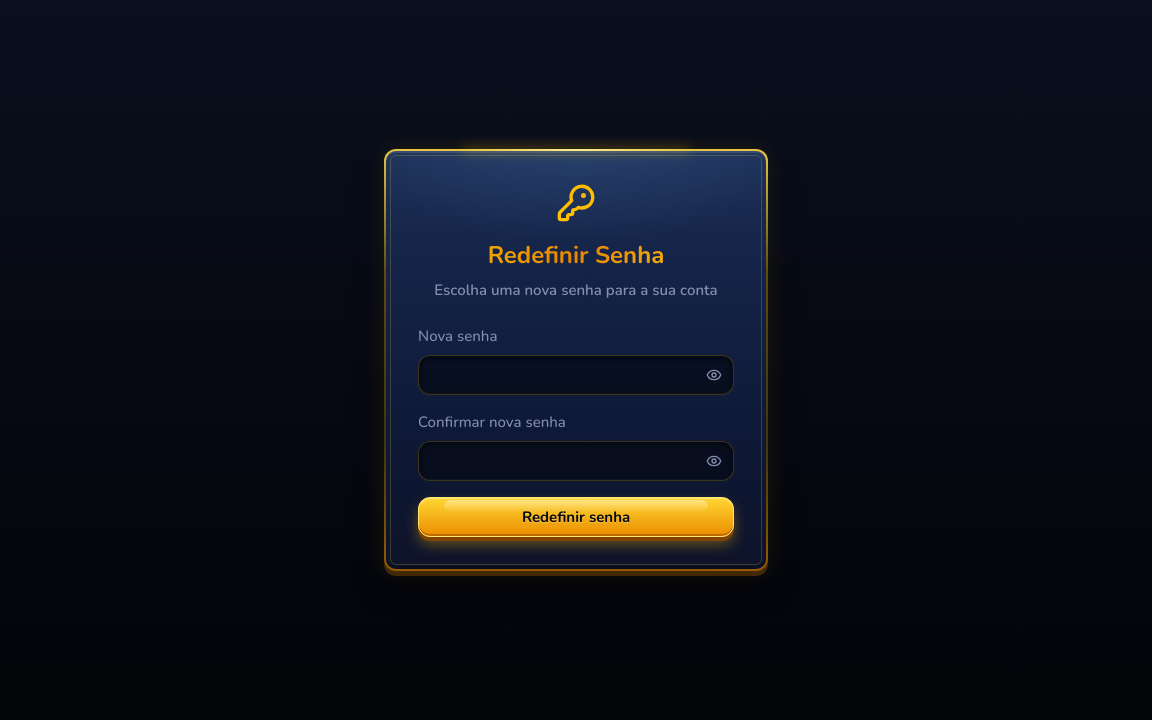
Test: ResetPassword › shows a mismatch error and skips the update when passwords differ
In the password field labelled "Nova senha": [576, 375] box [418,355,734,395], type "senha123"
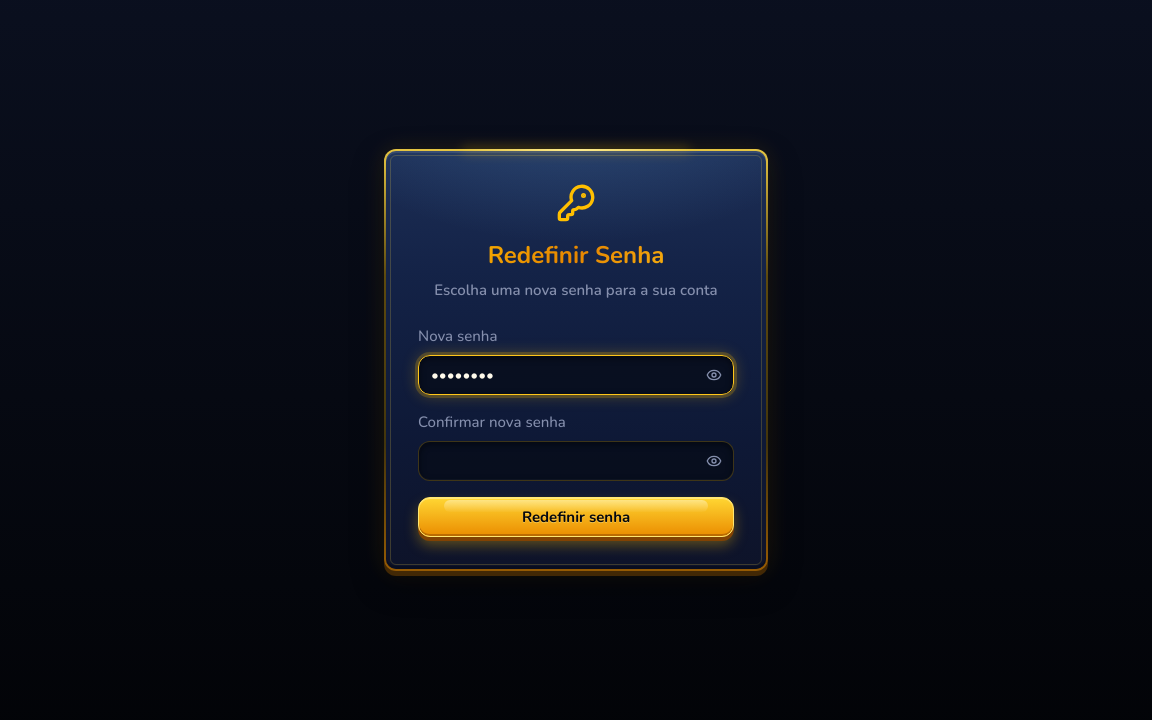
In the password field labelled "Confirmar nova senha": [576, 461] box [418,441,734,481], type "diferente"
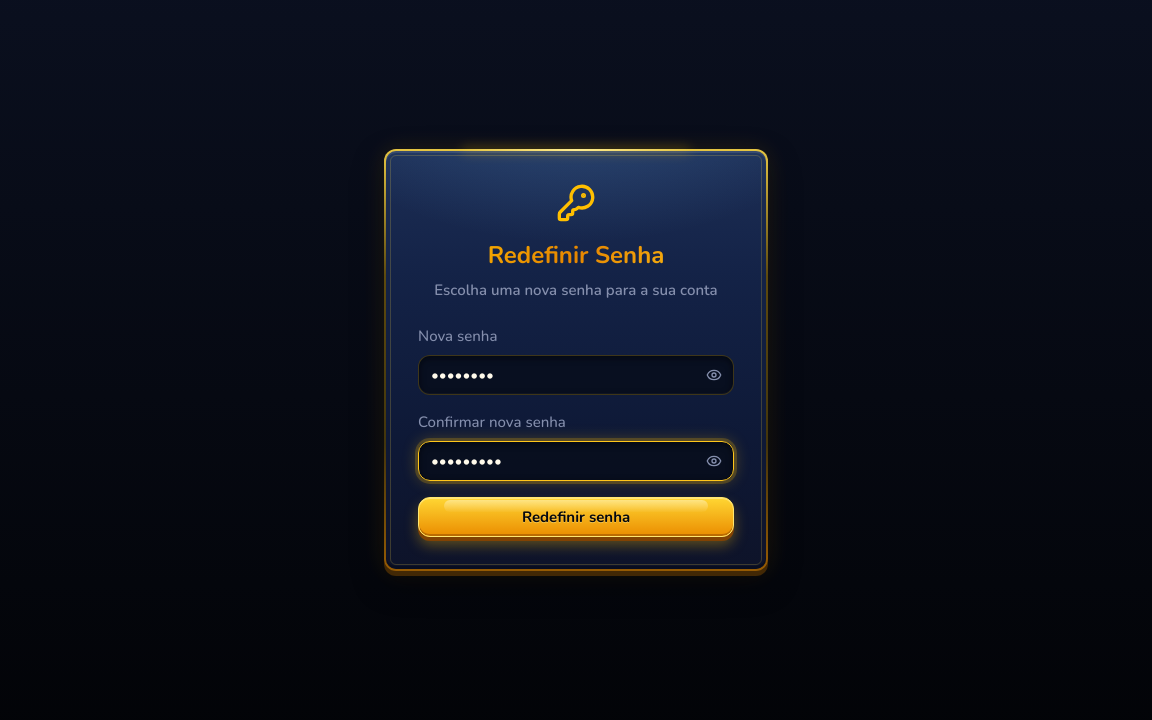
Click the button "Redefinir senha": [576, 517] box [418,497,734,537]
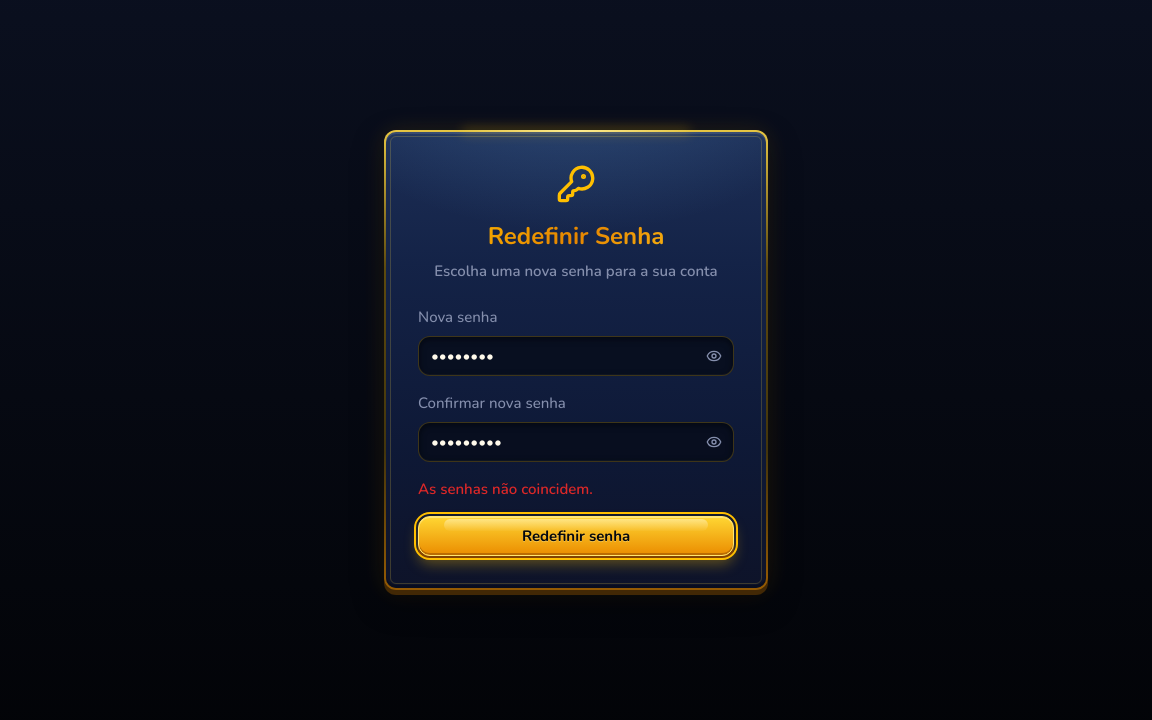
Now the text "As senhas não coincidem." is shown, box [418,479,593,499]
